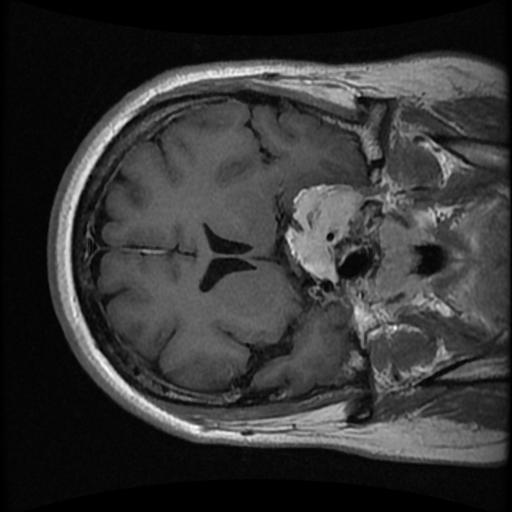meningioma: (283, 182, 363, 286)
